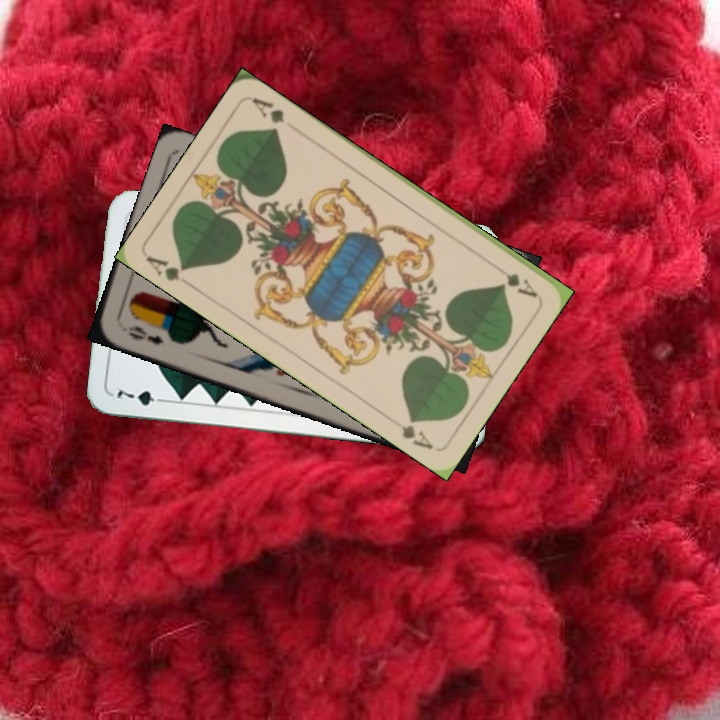EO: (123, 322, 166, 348)
G7: (112, 383, 170, 408)
GA: (488, 260, 540, 300), (143, 252, 196, 290)
